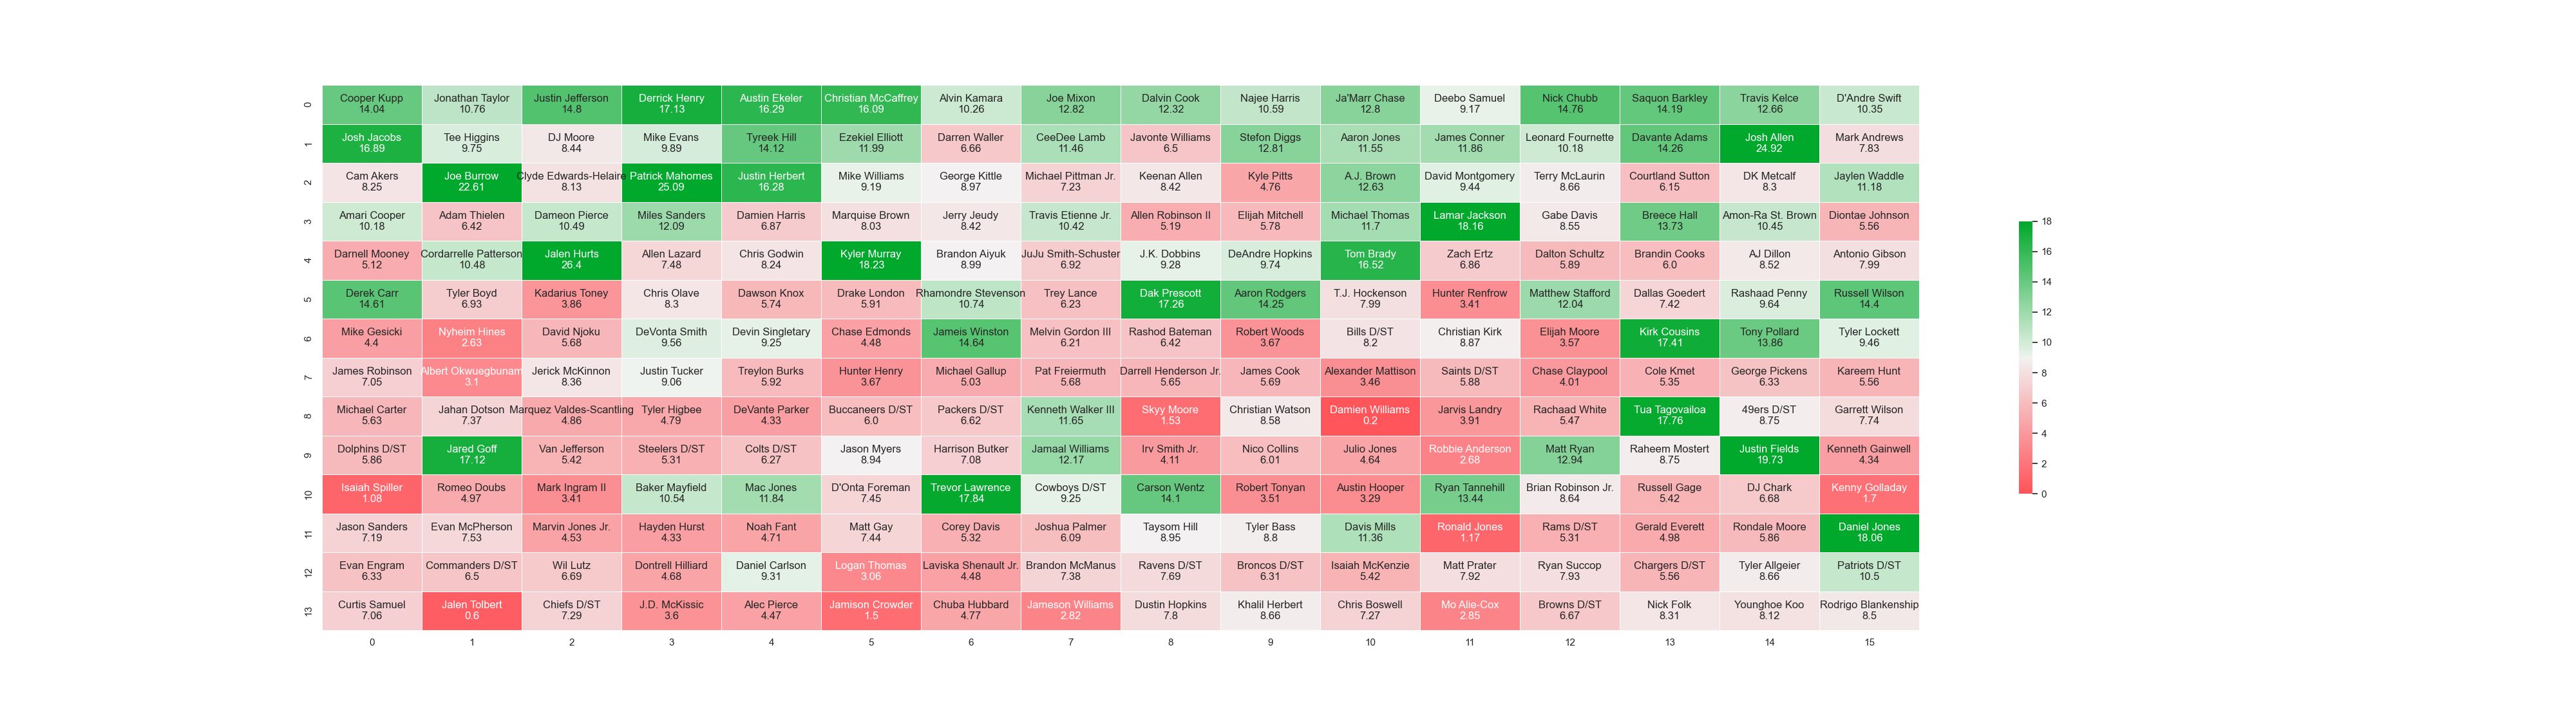

This screenshot's page, from the dashboard's own definition file:
{"tool":"powerbi","page":{"name":"Page 3","canvas":[1280,720],"ordinal":2},"visuals":[{"type":"pivotTable","fields":{"Rows":["Query1.round","Query1.playername"],"Columns":["Query1.pick"],"Values":["Sum(Query1.total)"]},"box":[0,0,1280,720],"z":1}]}

Visuals, with their boxes on the page's 1280x720 design canvas (x1, y1, x2, y2). These are canvas units, not pixel positions in the 2576x708 screenshot, which may show the page scaled, cropped or inside an application window:
pivotTable - Query1.round x Query1.playername: BBox(0, 0, 1280, 720)
